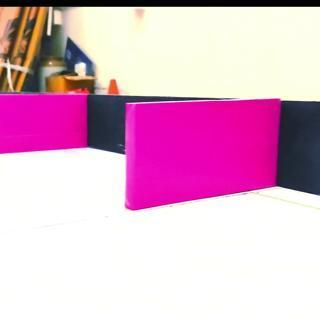xparking: (125, 102, 278, 198), (2, 92, 88, 151)
